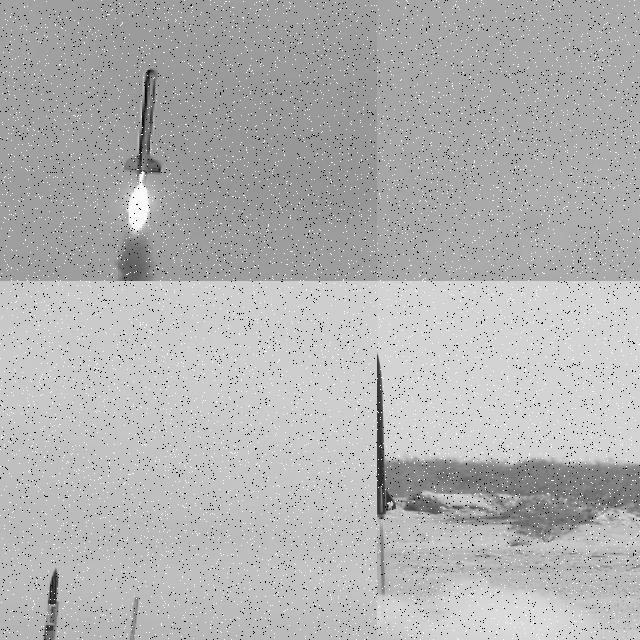Rocket: (124, 67, 164, 175), (377, 349, 396, 519), (25, 567, 65, 640)
